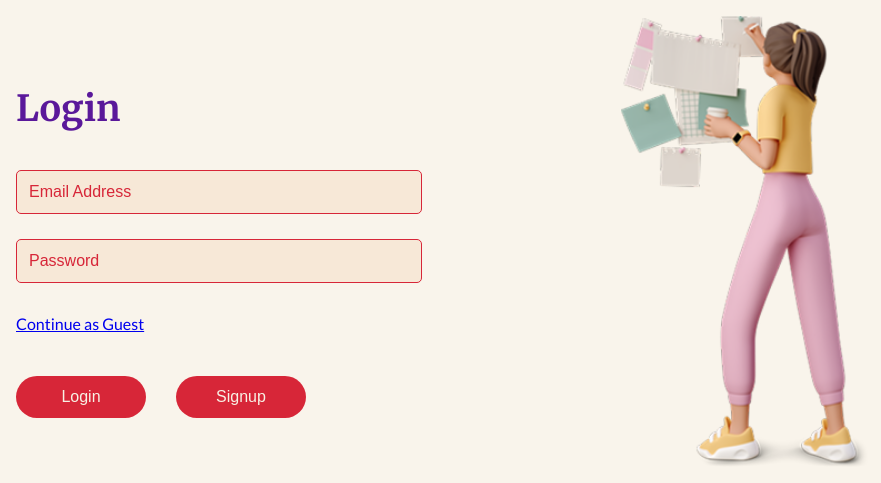
Test case: LoginView Tests › should display an error message when login fails with invalid credentials
The image size is (881, 483).
Type "invalid@example.com" into the field with placeholder "Email Address" at (219, 192), box [16,170,422,214]
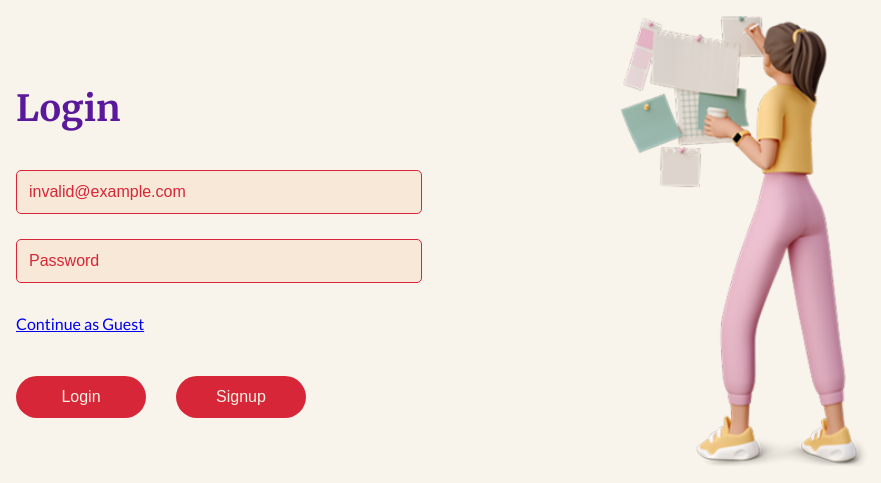
Type "wrongpassword" into the password field with placeholder "Password" at (219, 261), box [16,239,422,283]
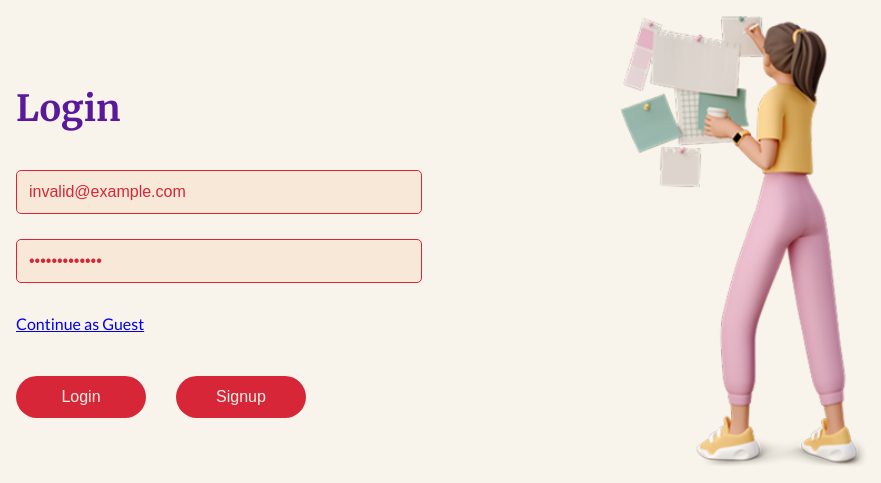
Note: Click the login button
Click the button "Login" at (81, 397), box [16,376,146,418]
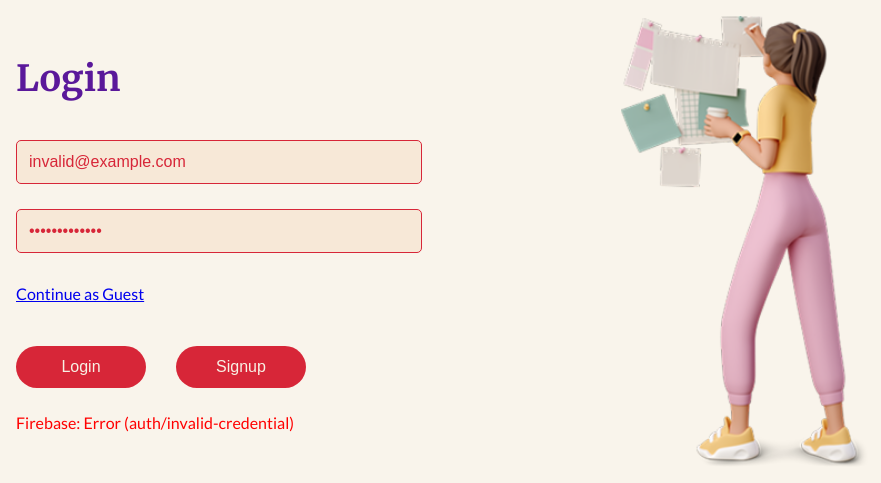
Result: the text "Firebase: Error (auth/invalid-credential)" is shown at [16,413,294,432]
